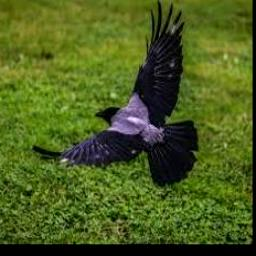Crow: (33, 0, 198, 188)
